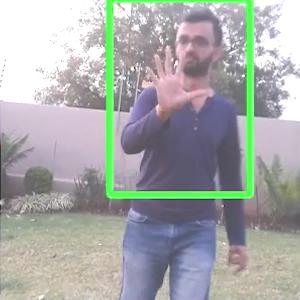follow_hand: (141, 38, 213, 115)
